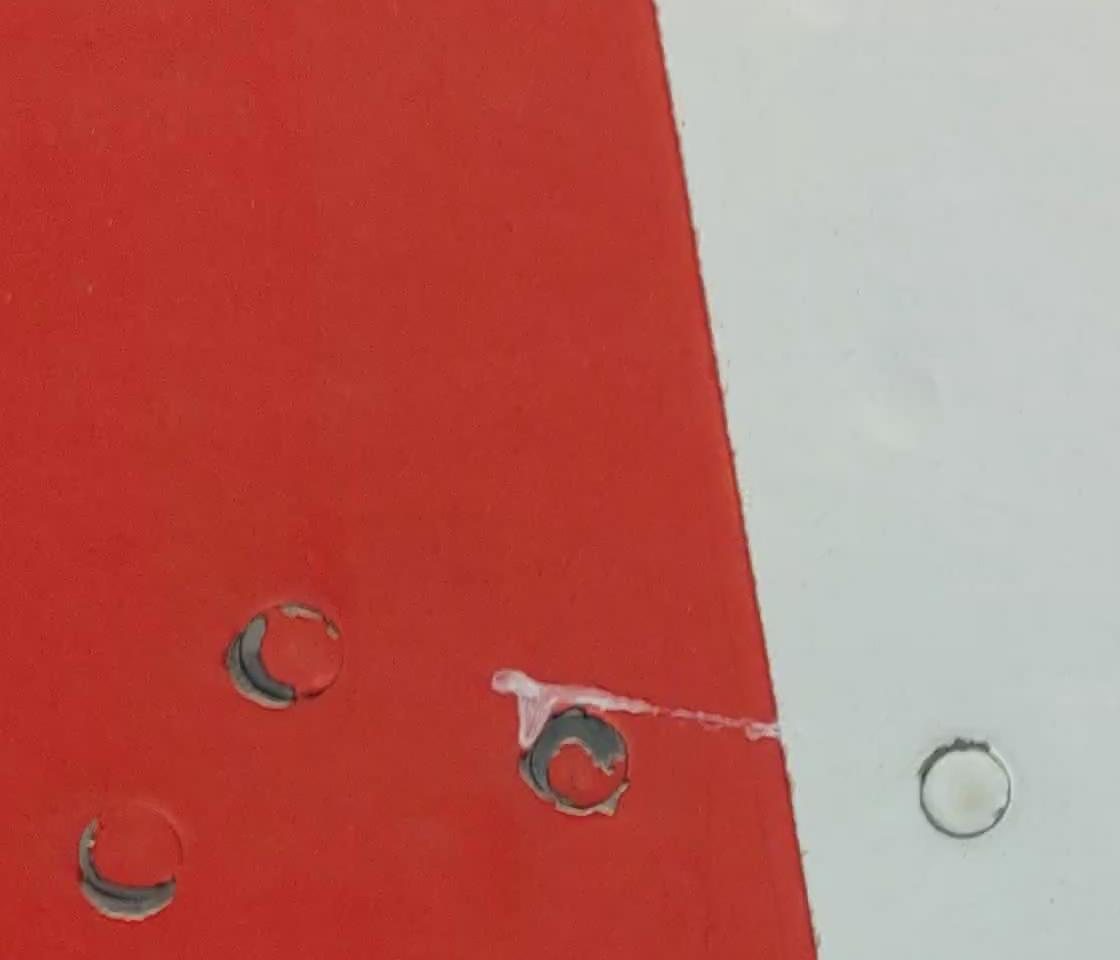paint_peel: (487, 663, 652, 823), (64, 810, 179, 925), (213, 612, 300, 722)
